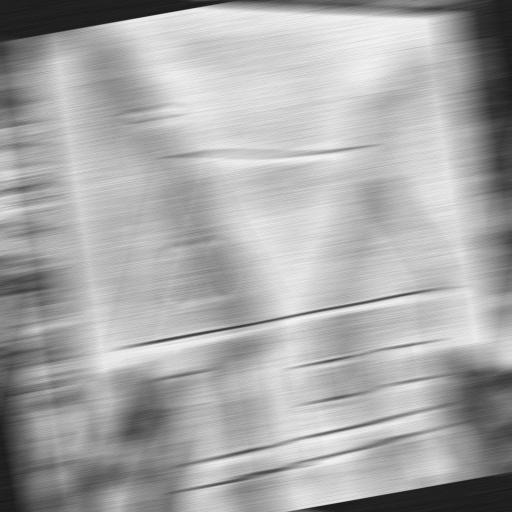house: (70, 39, 497, 510)
top_right: (435, 7, 464, 27)
